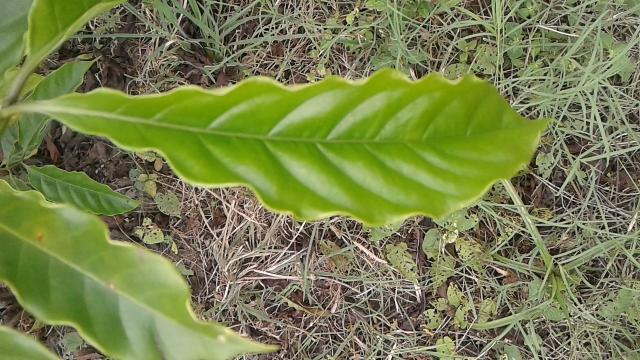healthy: (38, 76, 534, 222)
